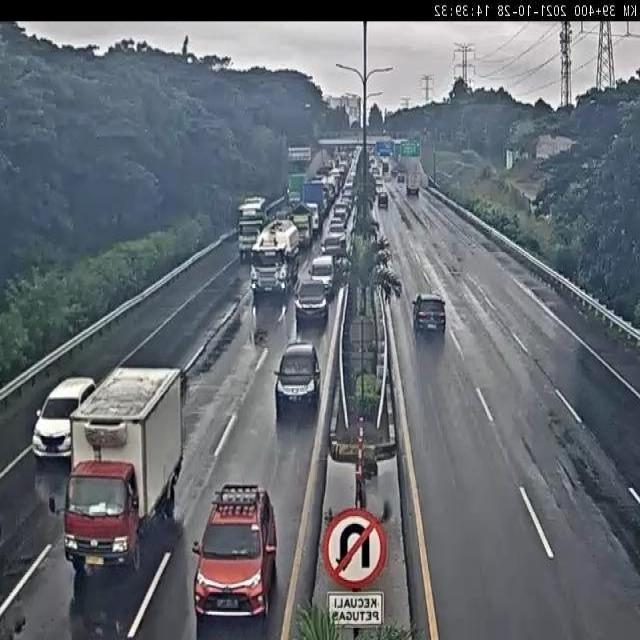Car: (192, 482, 278, 623), (32, 377, 96, 461), (273, 342, 322, 420), (294, 273, 329, 324), (412, 292, 446, 340), (307, 255, 336, 298), (327, 223, 348, 244), (320, 236, 341, 257), (325, 245, 343, 258), (378, 190, 388, 208), (330, 216, 342, 226), (375, 176, 384, 188), (397, 172, 405, 182)
Truck: (62, 362, 190, 573), (251, 218, 299, 296), (237, 212, 266, 260), (302, 179, 324, 232), (290, 202, 314, 248), (285, 171, 306, 205), (405, 168, 421, 198)
